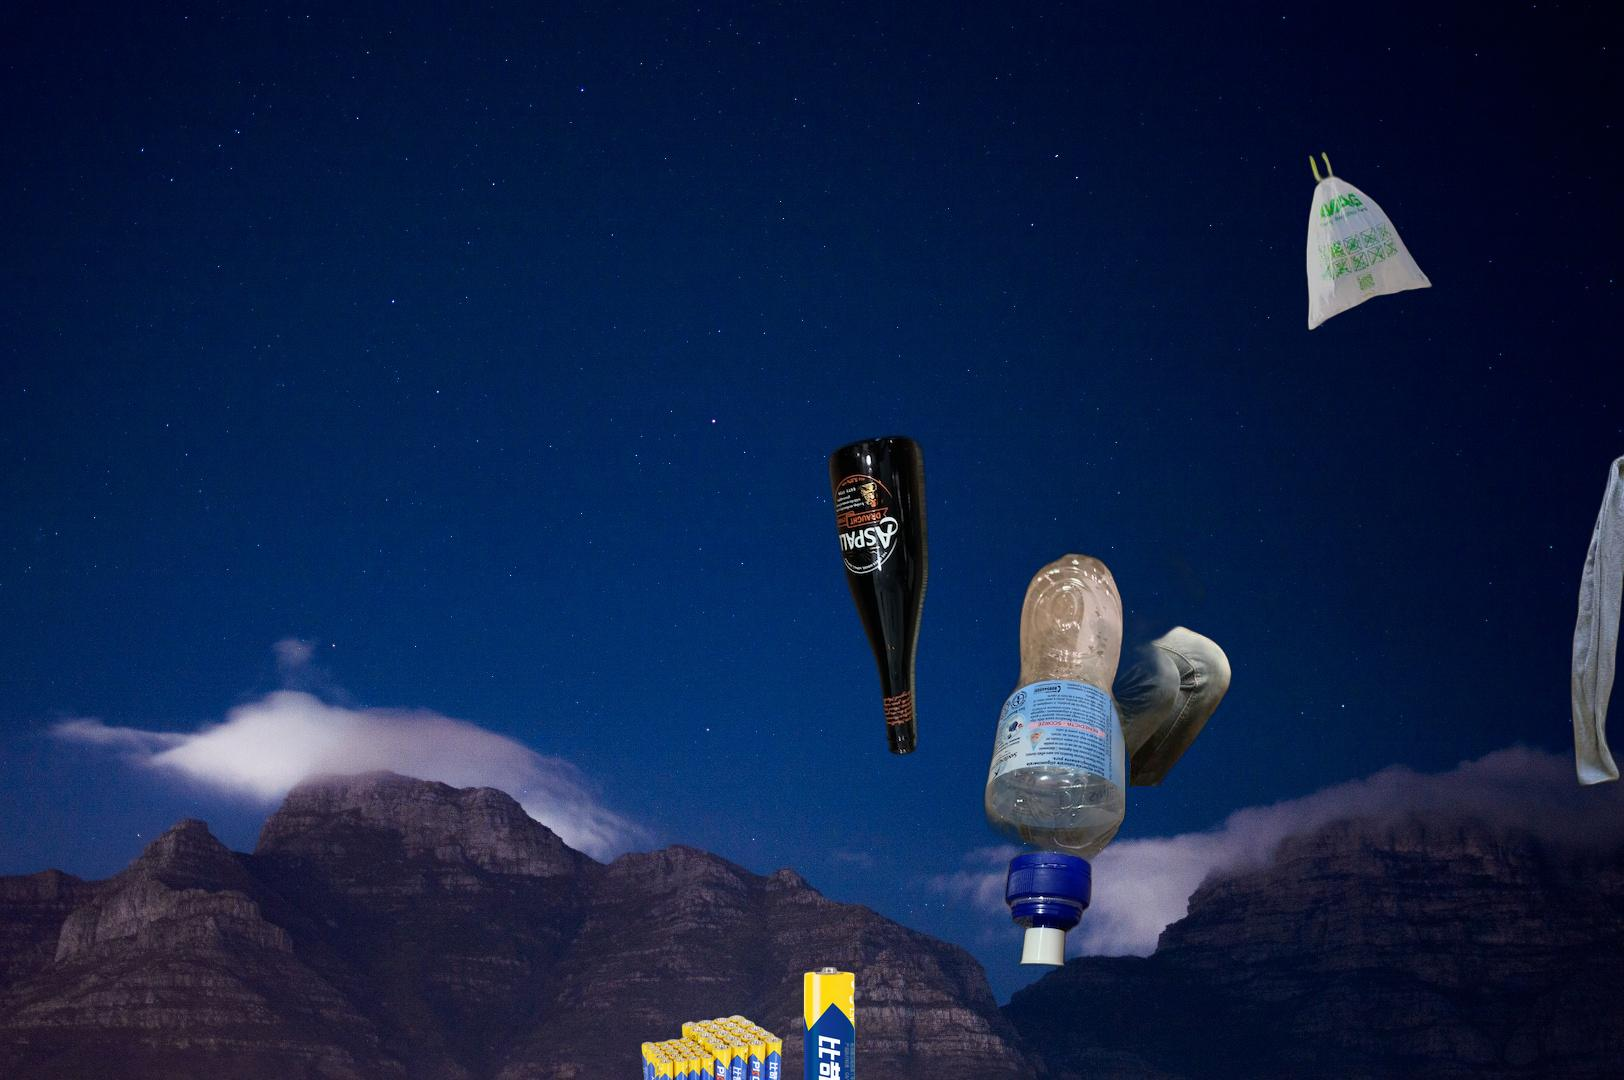battery: (635, 964, 858, 1080)
clothes: (1569, 344, 1624, 793)
glass: (824, 429, 934, 761)
paper-bag: (1052, 486, 1287, 786)
plastic-bag: (1304, 149, 1434, 331)
plastic-bottles: (981, 548, 1129, 970)
